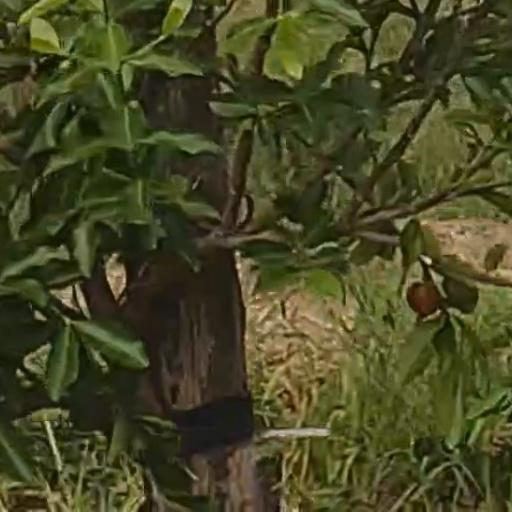acerola_vermelha: (408, 281, 431, 312)
